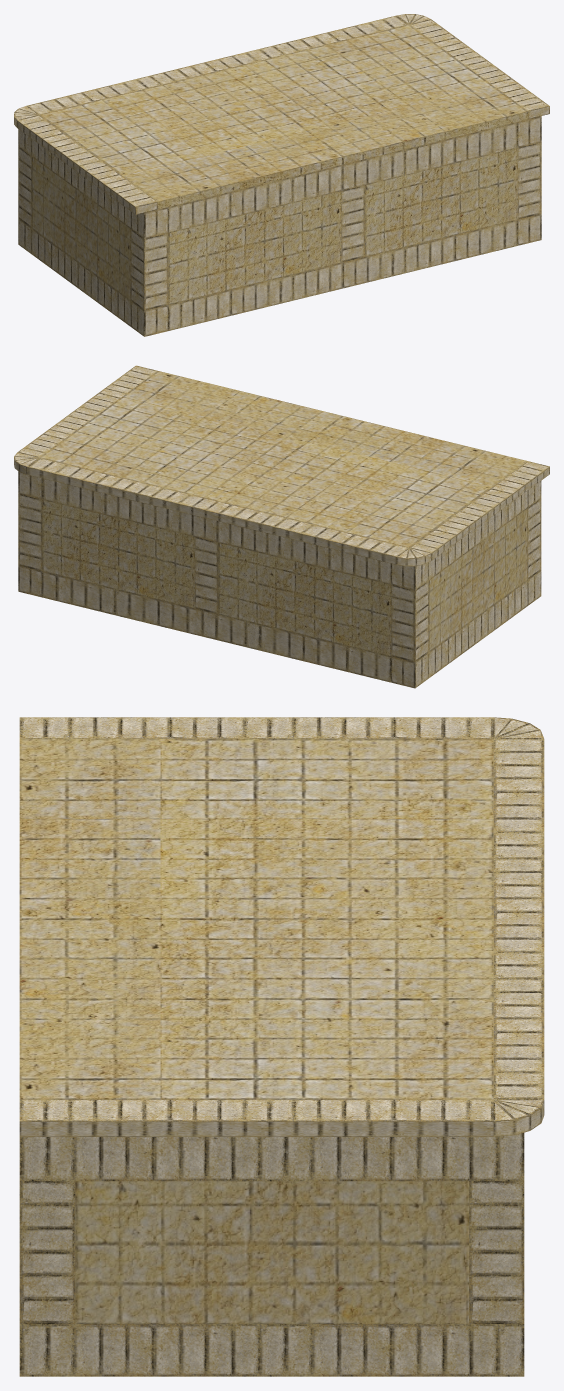
File: tutorial_structure_block05.dae
3 renders of one model, top to bottom at view 1: azimuth 30°, elevation 25°; view 2: azimuth 150°, elevation 25°; view 3: azimuth 270°, elevation 25°, orthographic. The views are drawn at different scales.
Parts seen in each view (by area): view 1: tutorial_structure_block05; view 2: tutorial_structure_block05; view 3: tutorial_structure_block05.
Part boxes in pixels (box(x1,y1,x2,y2)): tutorial_structure_block05: box(14, 14, 549, 336); tutorial_structure_block05: box(14, 365, 549, 688); tutorial_structure_block05: box(19, 717, 544, 1376).
Bounding box in the file's own units: 12.79 × 7.02 × 3.89.
Materials: 3 (3 with a texture image).
